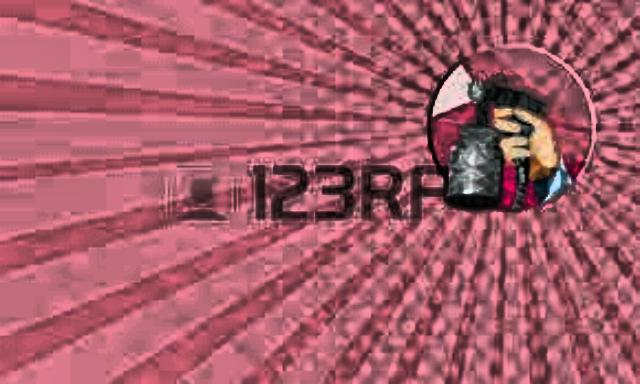pistol: (473, 77, 545, 154)
